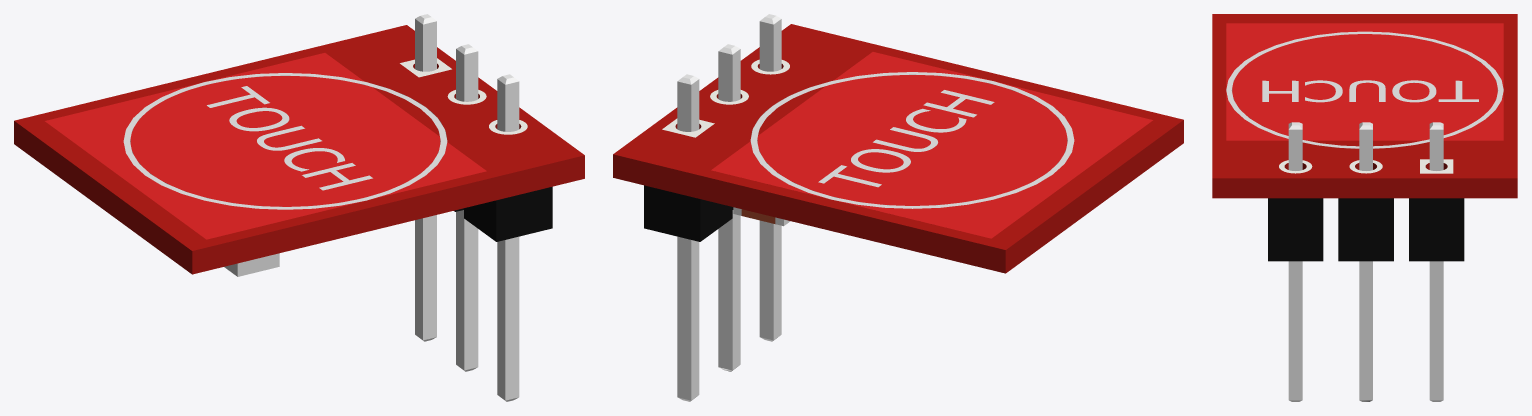
The model's file is Touch Sensor.fbx.
3 views of the same model, side by side, from view 1: azimuth 30°, elevation 25°; view 2: azimuth 150°, elevation 25°; view 3: azimuth 270°, elevation 25° (orthographic). The views are drawn at different scales.
Parts seen in each view (by area): view 1: SOLID, SOLID.001, SOLID.003, SOLID.002; view 2: SOLID, SOLID.002, SOLID.003, SOLID.001; view 3: SOLID, SOLID.002, SOLID.001, SOLID.003.
Part boxes in pixels (x1,y1,x2,y2): SOLID: [14, 25, 584, 276]; SOLID.001: [464, 74, 552, 401]; SOLID.003: [454, 44, 478, 371]; SOLID.002: [415, 14, 436, 341]; SOLID: [613, 24, 1183, 273]; SOLID.002: [644, 74, 732, 401]; SOLID.003: [718, 44, 740, 371]; SOLID.001: [759, 14, 781, 341]; SOLID: [1212, 14, 1517, 198]; SOLID.002: [1409, 122, 1464, 401]; SOLID.001: [1268, 122, 1323, 401]; SOLID.003: [1338, 122, 1393, 401].
Bounding box in the file's own units: 1.4 × 1.1 × 1.1.
